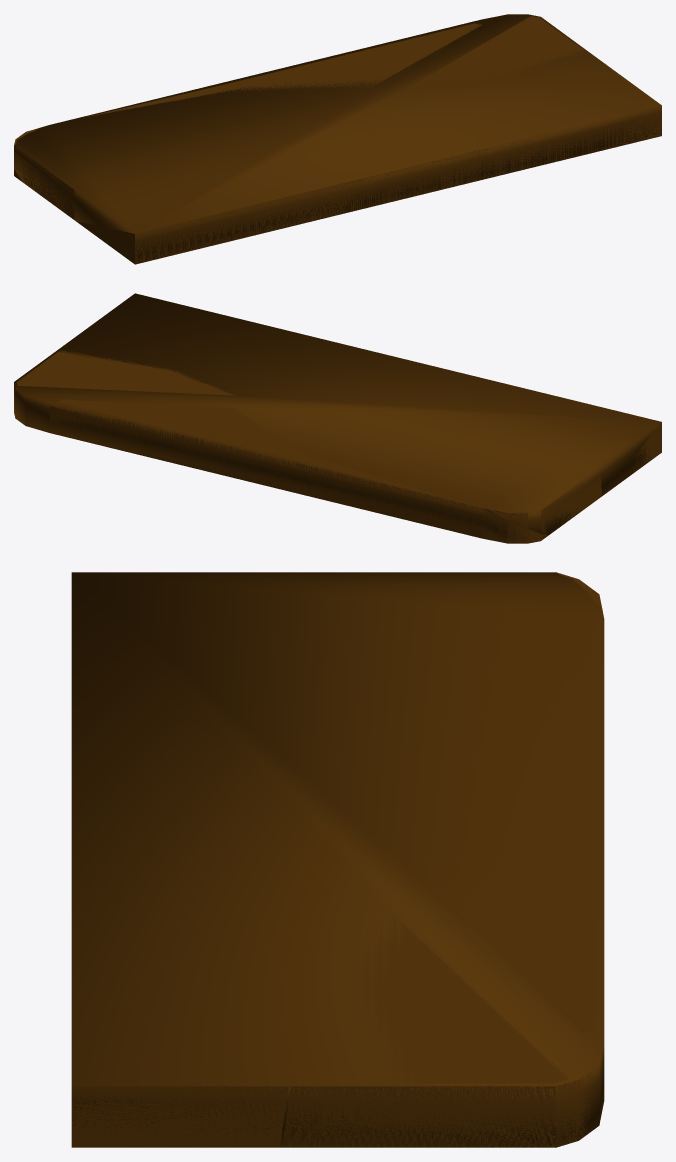
Rendered from Shelf_2.fbx.
3 renders of one model, top to bottom at view 1: azimuth 30°, elevation 25°; view 2: azimuth 150°, elevation 25°; view 3: azimuth 270°, elevation 25°, orthographic. The views are drawn at different scales.
Visible parts, largest first — view 1: Shelf_02, Shelf_02_cell, Shelf_02_cell.001, Shelf_02_cell.002; view 2: Shelf_02, Shelf_02_cell.001, Shelf_02_cell.002, Shelf_02_cell; view 3: Shelf_02, Shelf_02_cell.001, Shelf_02_cell.
Boxes of the visible parts, <box> form: Shelf_02: <box>14,14,661,264</box>; Shelf_02_cell: <box>76,108,661,264</box>; Shelf_02_cell.001: <box>14,16,585,181</box>; Shelf_02_cell.002: <box>14,128,223,219</box>; Shelf_02: <box>14,293,661,543</box>; Shelf_02_cell.001: <box>17,349,548,543</box>; Shelf_02_cell.002: <box>413,434,601,533</box>; Shelf_02_cell: <box>633,422,661,471</box>; Shelf_02: <box>71,572,604,1147</box>; Shelf_02_cell.001: <box>282,617,603,1147</box>; Shelf_02_cell: <box>71,1086,288,1147</box>.
Bounding box in the file's own units: 114 × 6.33 × 49.82.
